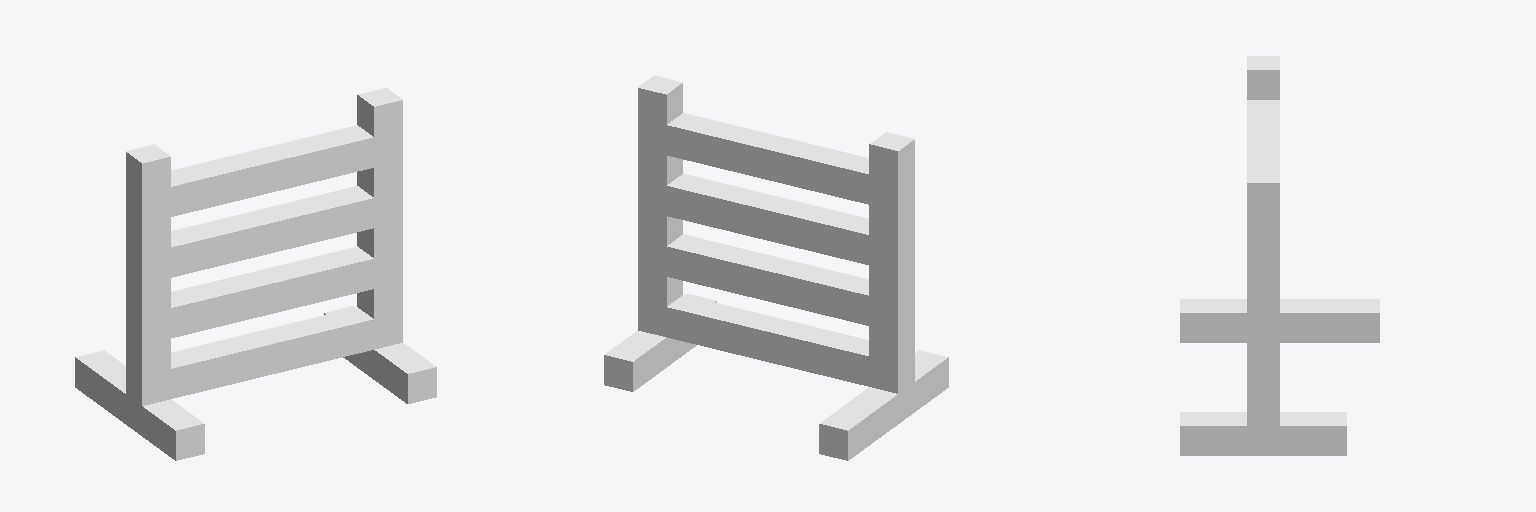
File: barrier.obj
The picture shows the model from 3 angles: view 1: azimuth 30°, elevation 25°; view 2: azimuth 150°, elevation 25°; view 3: azimuth 270°, elevation 25°; orthographic projection.
Visible parts, largest first — view 1: object 1; view 2: object 1; view 3: object 1.
Boxes of the visible parts, <box> form: object 1: <box>75,88,436,460</box>; object 1: <box>604,75,948,460</box>; object 1: <box>1180,56,1379,455</box>.
Bounding box in the file's own units: 0.9 × 0.9 × 0.6.